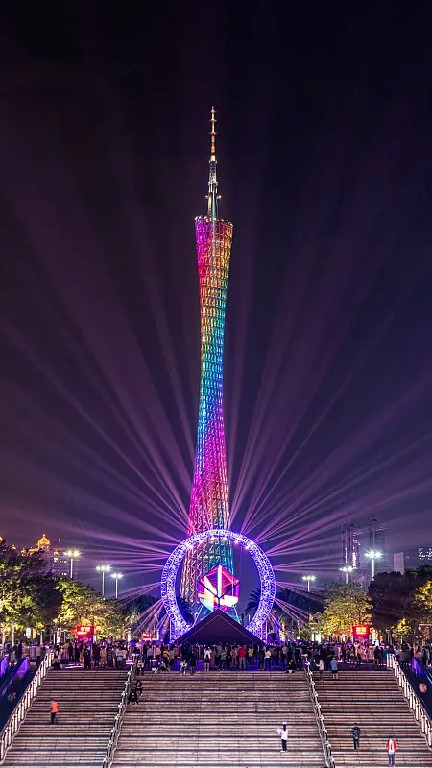Canton: (178, 106, 242, 609)
